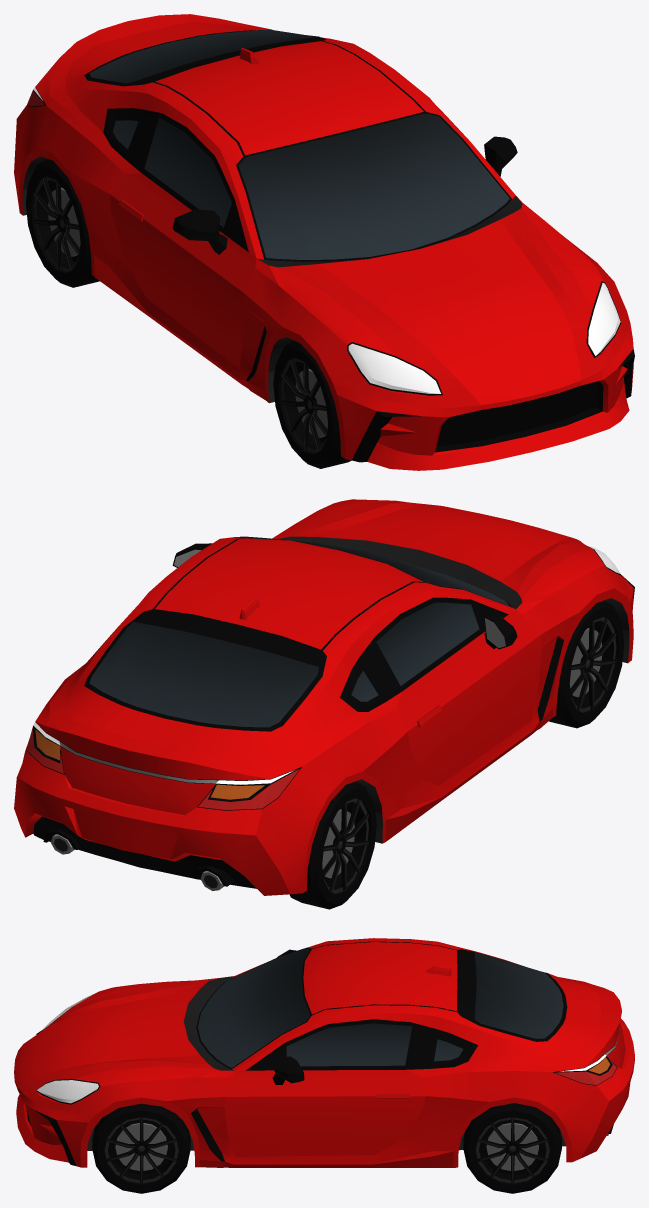
The picture shows the model from 3 angles, top to bottom: view 1: azimuth 30°, elevation 25°; view 2: azimuth 150°, elevation 25°; view 3: azimuth 270°, elevation 25°; orthographic projection. The views are drawn at different scales.
Visible parts, largest first — view 1: Body, FR, RR; view 2: Body, RR, FR; view 3: Body, FL, RL.
Boxes of the visible parts, x1=… form: Body: x1=14, y1=14, x2=634, y2=470; FR: x1=273, y1=341, x2=351, y2=468; RR: x1=25, y1=159, x2=99, y2=287; Body: x1=14, y1=499, x2=634, y2=895; RR: x1=289, y1=781, x2=376, y2=909; FR: x1=549, y1=600, x2=624, y2=728; Body: x1=14, y1=938, x2=634, y2=1167; FL: x1=92, y1=1103, x2=190, y2=1193; RL: x1=463, y1=1103, x2=561, y2=1193.
Size of the model in its own units: 2.03 by 1.35 by 4.32.
Materials: 2 (2 with a texture image).
